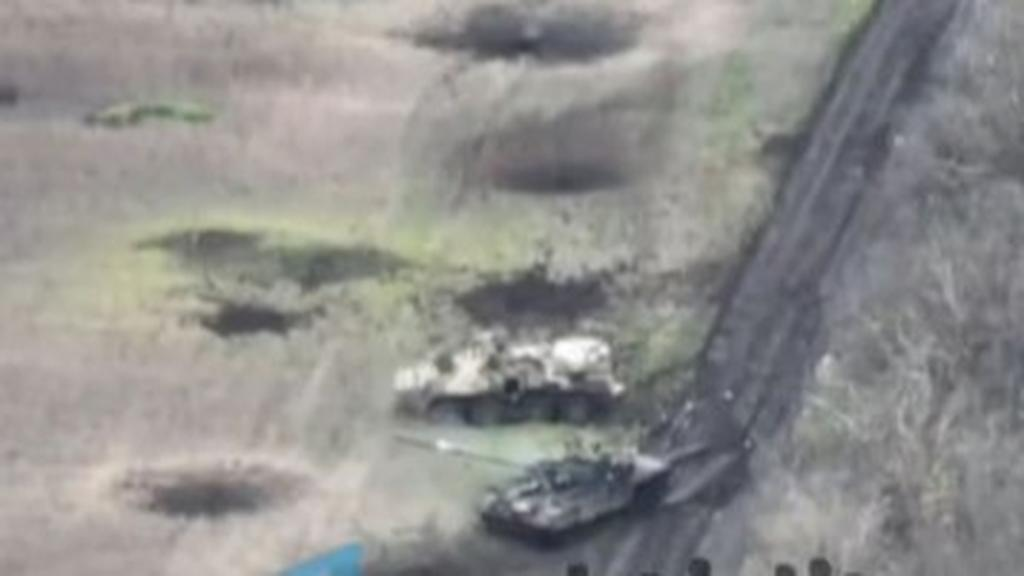APC-IFV: (390, 320, 626, 428)
TANK: (386, 432, 676, 544)
